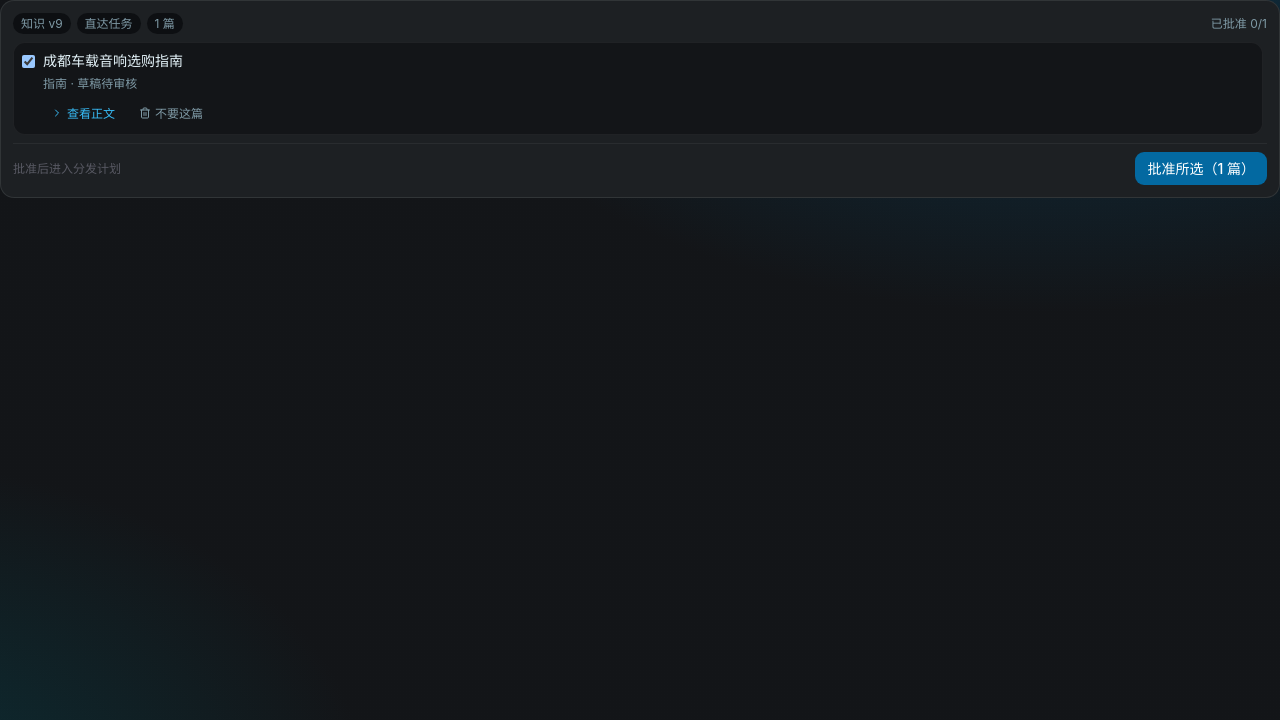
Test case: ArticleApprovalGateCard › does not show approved state when the server review blocks the draft
The image size is (1280, 720).
Click the button "批准所选（1 篇）".
click(1201, 169)  # box x1=1136 y1=152 x2=1267 y2=185
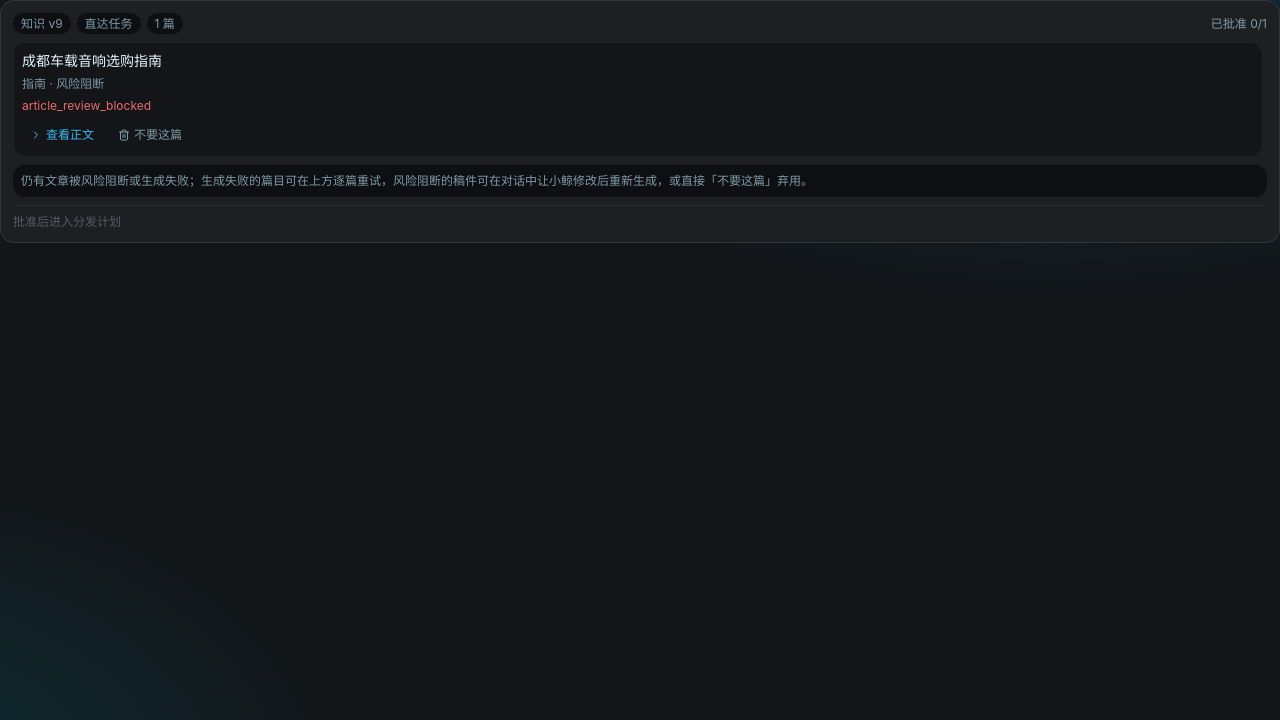
expect the text "指南 · 风险阻断" is shown: met, box x1=22 y1=76 x2=104 y2=91
expect the text "仍有文章被风险阻断或生成失败" is shown: met, box x1=21 y1=173 x2=813 y2=188
